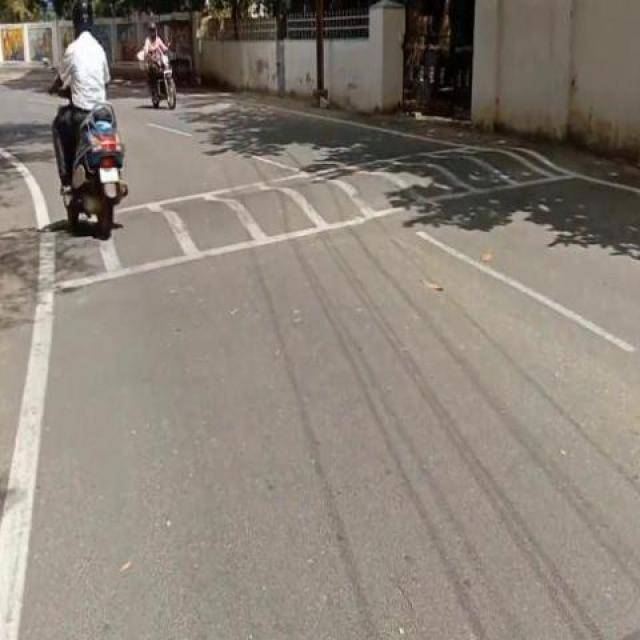Speed Bump: (128, 148, 564, 272), (0, 224, 99, 303)
